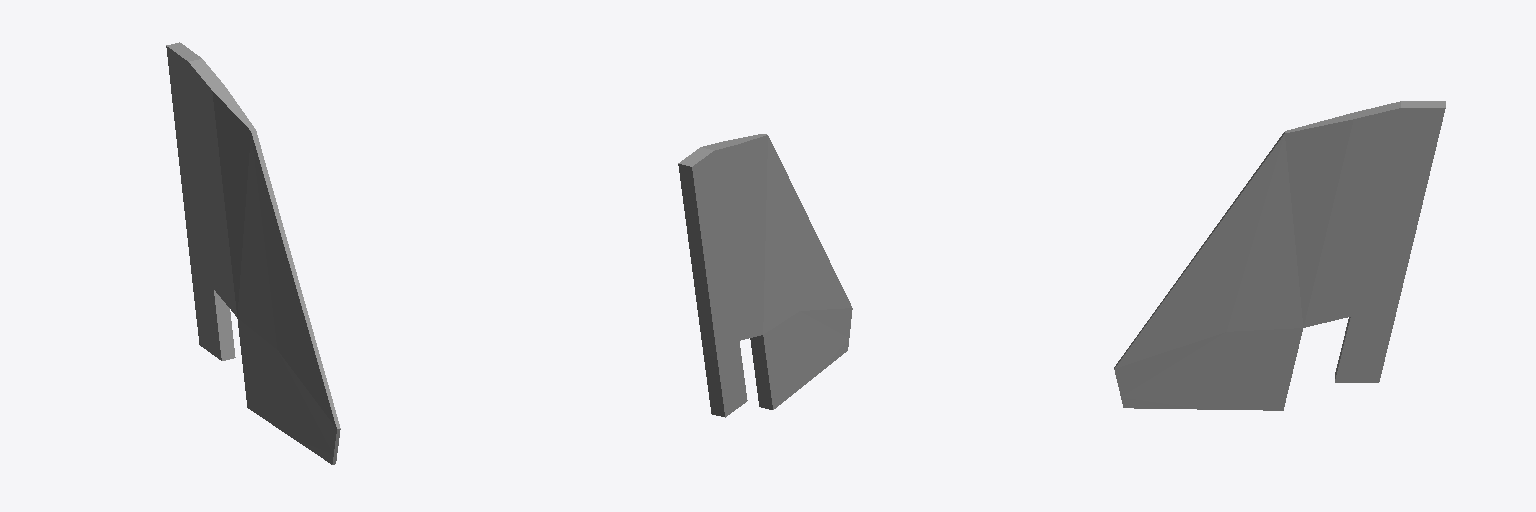
The model's file is Fin01.obj.
3 views of the same model, side by side, from view 1: azimuth 30°, elevation 25°; view 2: azimuth 150°, elevation 25°; view 3: azimuth 270°, elevation 25° (orthographic).
Parts seen in each view (by area): view 1: Fin01_Cube; view 2: Fin01_Cube; view 3: Fin01_Cube.
Boxes of the visible parts, x1,y1,x2,y2 form: Fin01_Cube: [166, 42, 340, 464]; Fin01_Cube: [678, 134, 852, 417]; Fin01_Cube: [1114, 101, 1445, 410].
Size of the model in its own units: 0.1995 by 4.18 by 4.14.